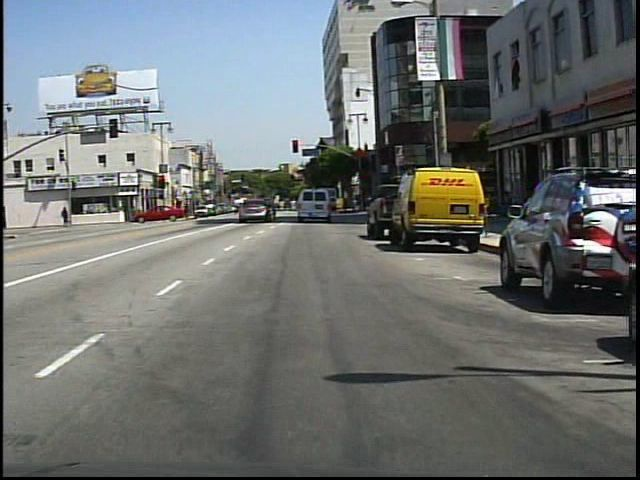person: (496, 184, 520, 226), (61, 205, 69, 225), (271, 192, 276, 223)
